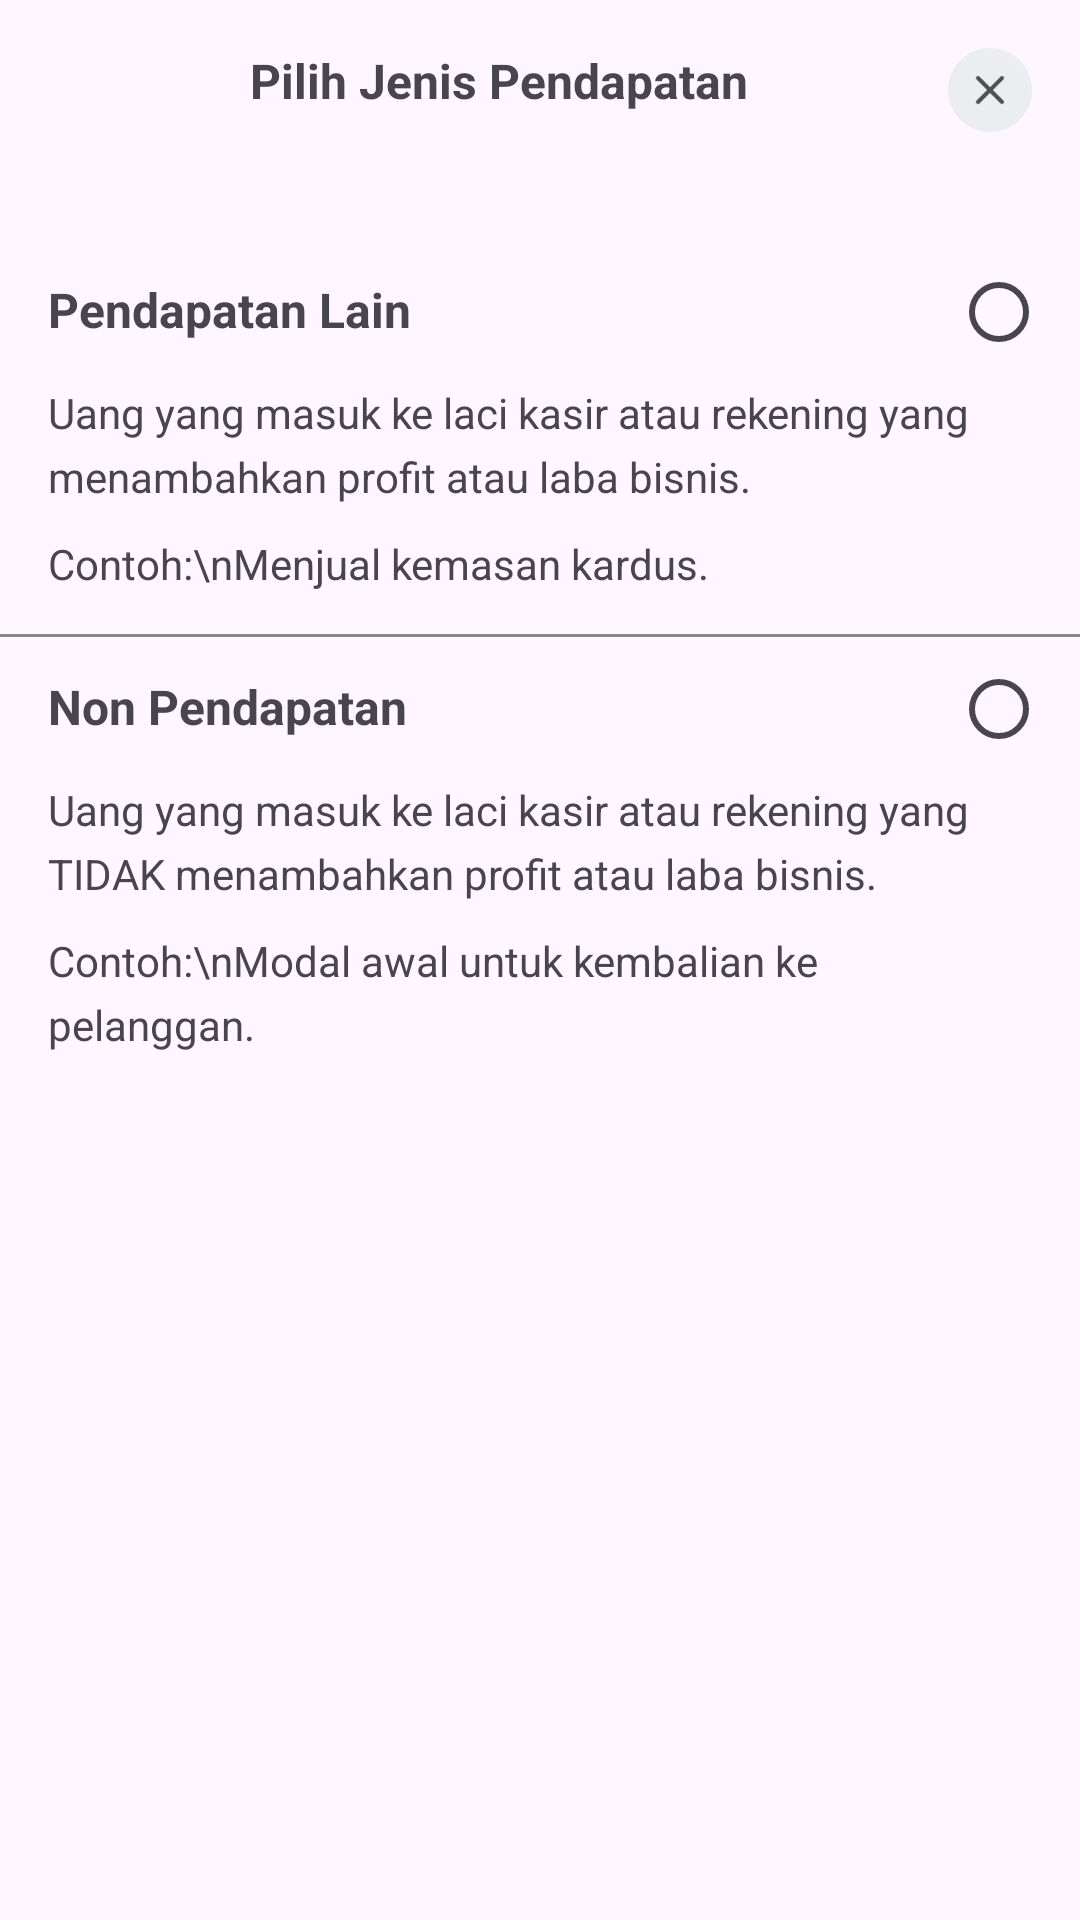

Icon bounding boxes for this 1080 x 1920 phone screenshot, format (x1, y1, x2, y2):
close: (948, 48, 1032, 132)
